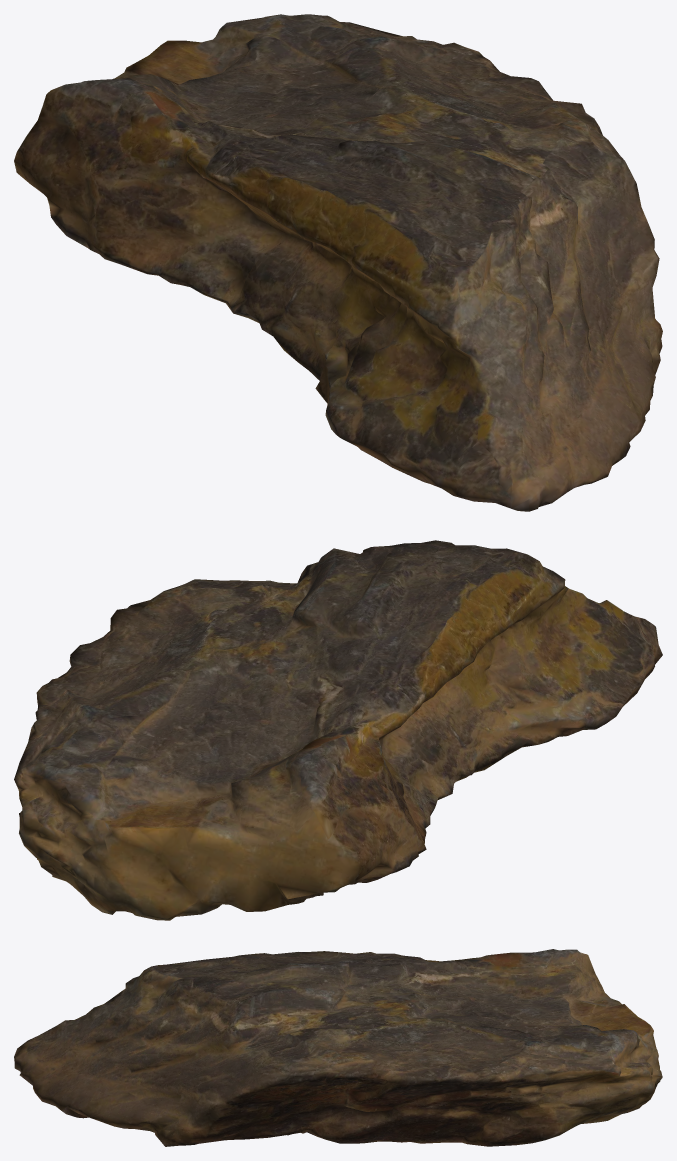
File: rock_09.glb
3 renders of one model, top to bottom at view 1: azimuth 30°, elevation 25°; view 2: azimuth 150°, elevation 25°; view 3: azimuth 270°, elevation 25°, orthographic. The views are drawn at different scales.
Visible parts, largest first — view 1: rock_09_LOD0; view 2: rock_09_LOD0; view 3: rock_09_LOD0.
Boxes of the visible parts, x1=… form: rock_09_LOD0: x1=14, y1=14, x2=662, y2=511; rock_09_LOD0: x1=14, y1=540, x2=662, y2=920; rock_09_LOD0: x1=14, y1=949, x2=662, y2=1146.
Size of the model in its own units: 0.0739 by 0.0329 by 0.1448.
1 material, 1 textured.
